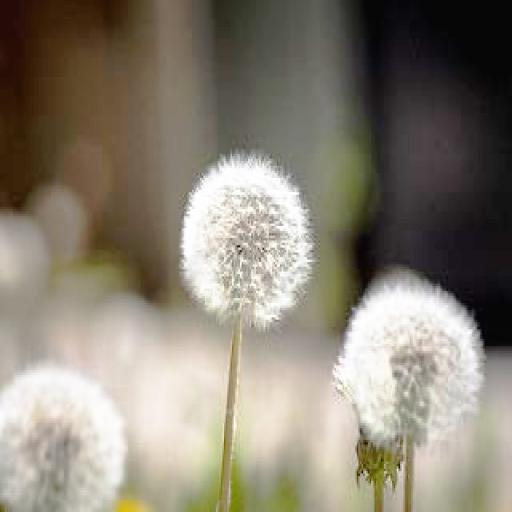dandelion: (336, 279, 485, 449), (182, 156, 312, 327)
